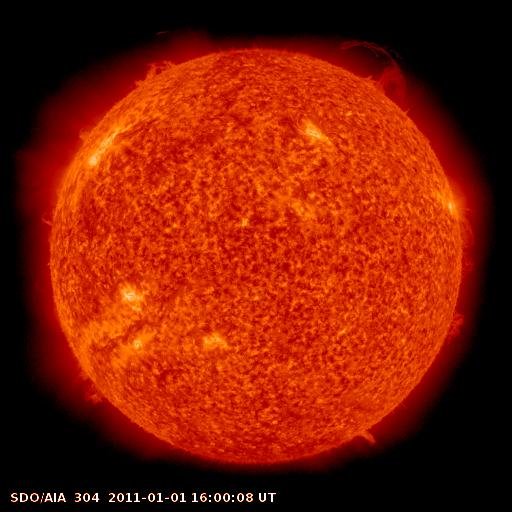prominence: (325, 30, 417, 106), (61, 360, 120, 413), (447, 216, 491, 278), (54, 109, 117, 150), (427, 303, 472, 353), (133, 54, 190, 91), (346, 410, 390, 456), (26, 204, 74, 239)
